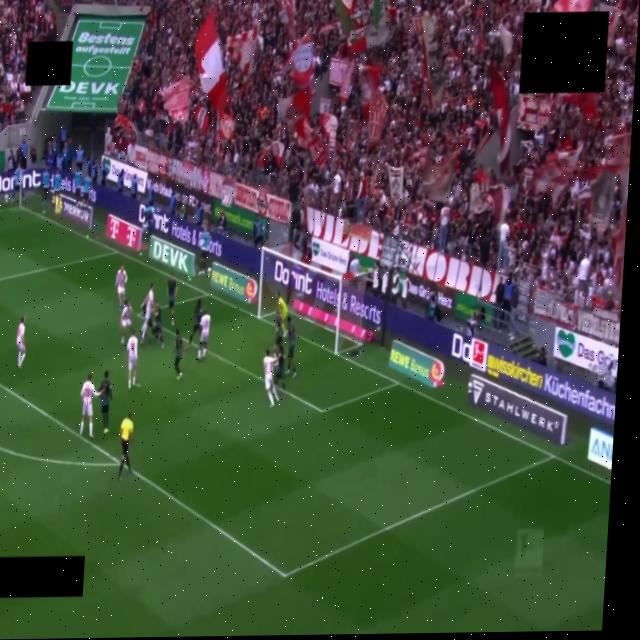player: (80, 374, 99, 437), (263, 350, 278, 407), (99, 371, 112, 433), (141, 283, 154, 342), (188, 299, 203, 348), (127, 329, 138, 389), (198, 309, 210, 361), (152, 302, 164, 348), (115, 266, 127, 312), (287, 316, 296, 377), (120, 301, 132, 344), (167, 275, 177, 325), (276, 293, 287, 336), (16, 316, 25, 368), (174, 330, 183, 380), (275, 345, 285, 388), (274, 316, 283, 347)
referee: (118, 412, 133, 480)
